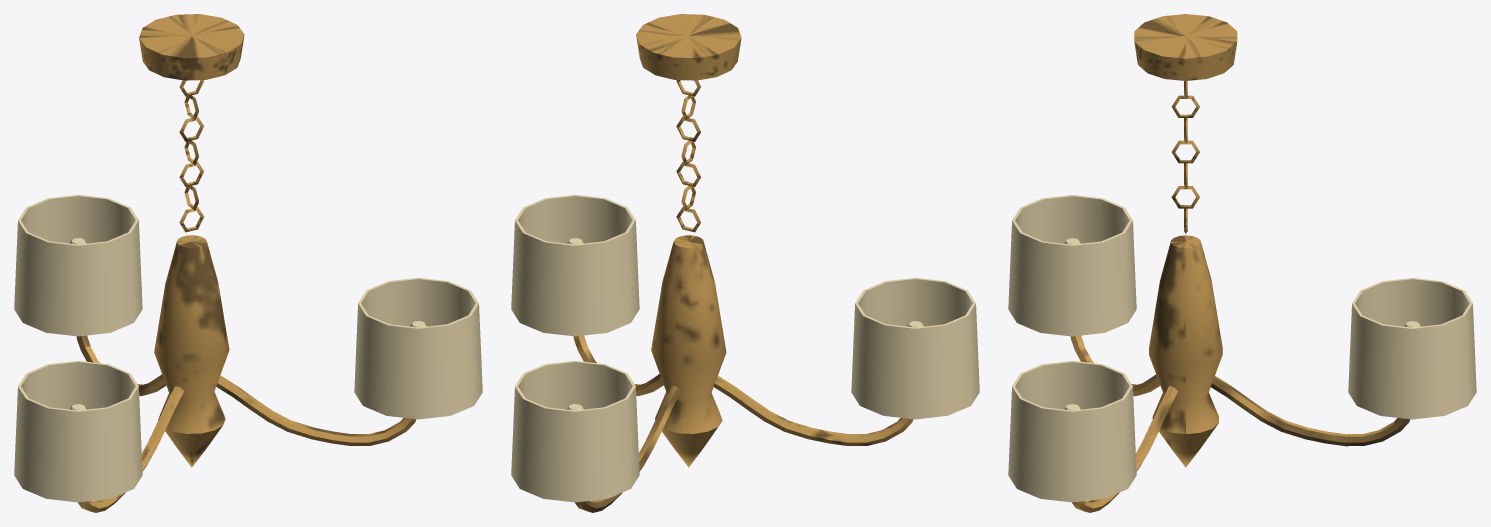
Rendered from FX_Chandelier3.fbx.
3 views of the same model, side by side, from view 1: azimuth 30°, elevation 25°; view 2: azimuth 150°, elevation 25°; view 3: azimuth 270°, elevation 25° (orthographic).
Parts seen in each view (by area): view 1: FX_Chandelier3_Emissive, FX_Chandelier3; view 2: FX_Chandelier3_Emissive, FX_Chandelier3; view 3: FX_Chandelier3_Emissive, FX_Chandelier3.
Part boxes in pixels (left/top/right/bottom): FX_Chandelier3_Emissive: left=14, top=194, right=482, bottom=502; FX_Chandelier3: left=76, top=14, right=416, bottom=512; FX_Chandelier3_Emissive: left=511, top=194, right=979, bottom=502; FX_Chandelier3: left=573, top=14, right=913, bottom=512; FX_Chandelier3_Emissive: left=1008, top=195, right=1476, bottom=502; FX_Chandelier3: left=1070, top=14, right=1410, bottom=512.
Size of the model in its own units: 0.6896 by 0.63 by 0.62.
